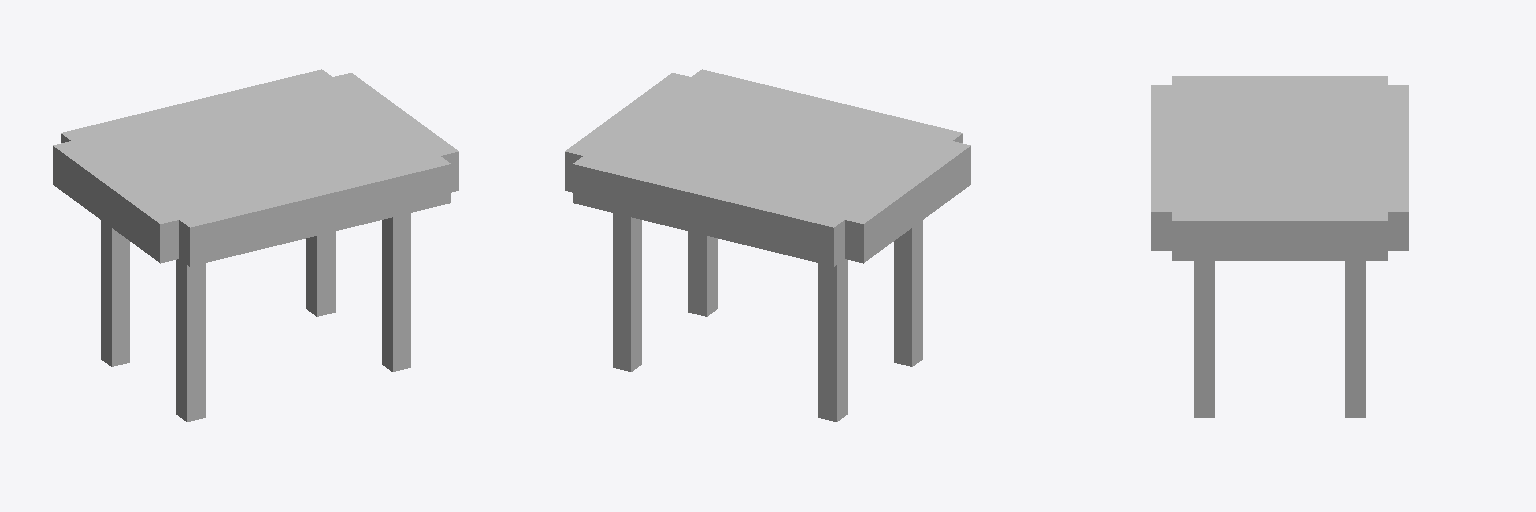
File: 3D Voxel Office Pack-84.obj
The picture shows the model from 3 angles: view 1: azimuth 30°, elevation 25°; view 2: azimuth 150°, elevation 25°; view 3: azimuth 270°, elevation 25°; orthographic projection.
Visible parts, largest first — view 1: object 1; view 2: object 1; view 3: object 1.
Boxes of the visible parts, x1,y1,x2,y2 form: object 1: [53, 69, 458, 421]; object 1: [565, 69, 970, 421]; object 1: [1151, 76, 1408, 417].
Bounding box in the file's own units: 1.6 × 1.1 × 1.2.